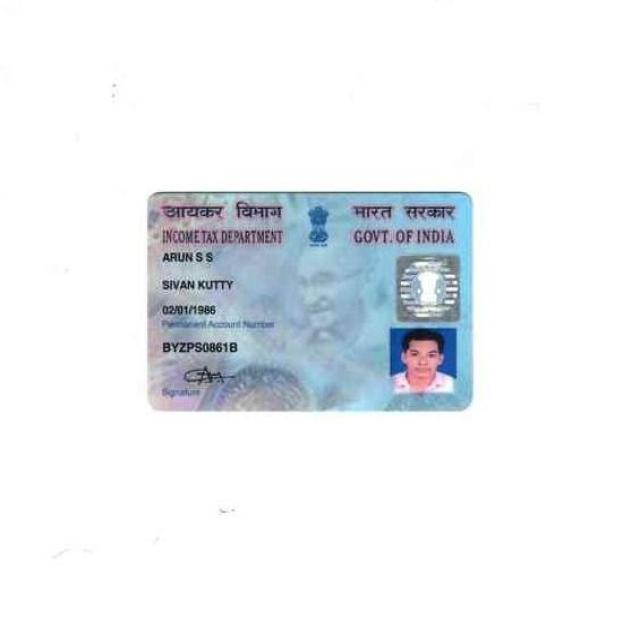pan_card: (150, 190, 470, 411)
